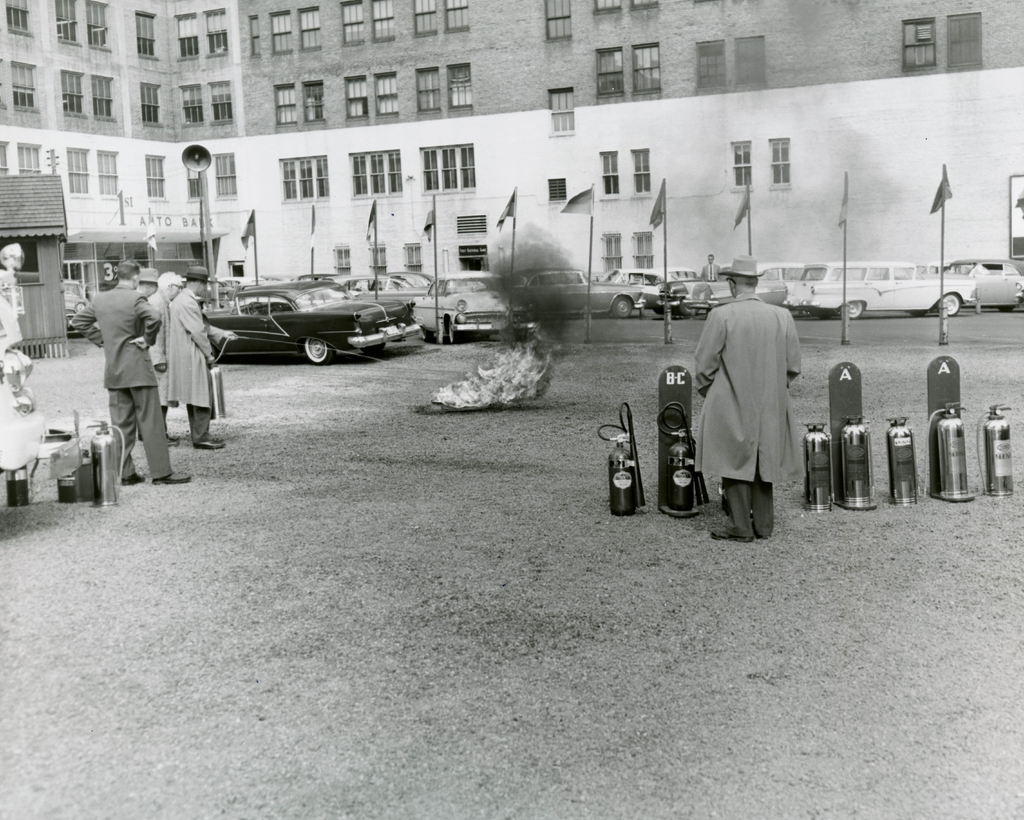Car: (165, 272, 413, 355), (407, 268, 524, 344), (508, 264, 648, 316), (953, 257, 1023, 309)
